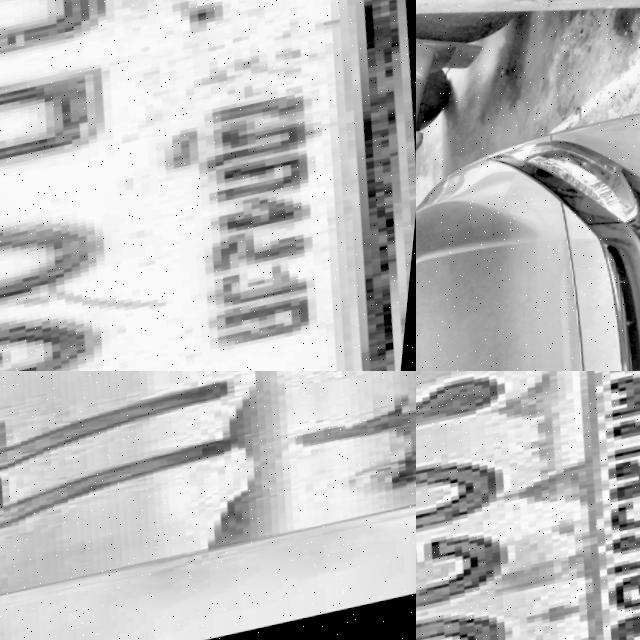license-plate: (0, 0, 416, 371), (0, 371, 416, 640), (416, 371, 640, 640)
